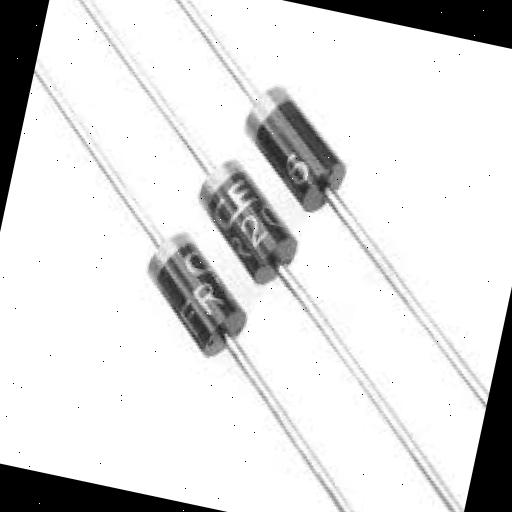DIODE: (118, 208, 314, 393), (194, 54, 396, 216), (168, 156, 322, 310)
